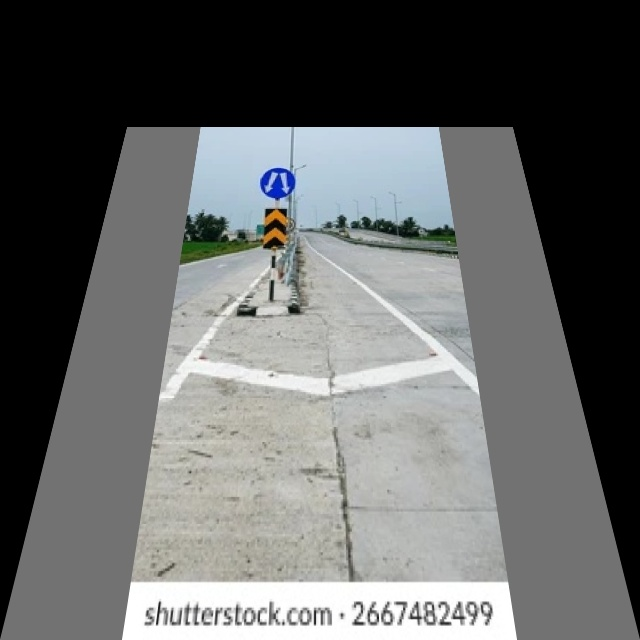Pass_Either_Side: (254, 164, 298, 202)
